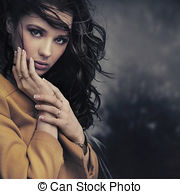face: (1, 1, 82, 92)
